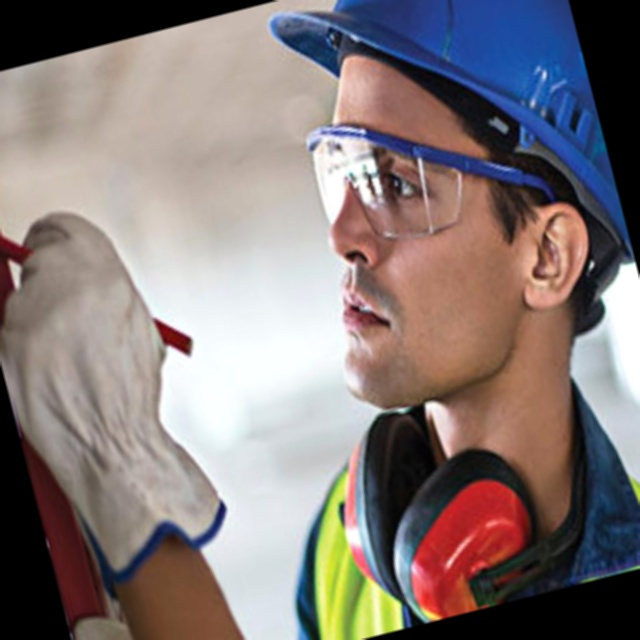goggles: (144, 134, 293, 266)
helmet: (2, 0, 226, 336)
